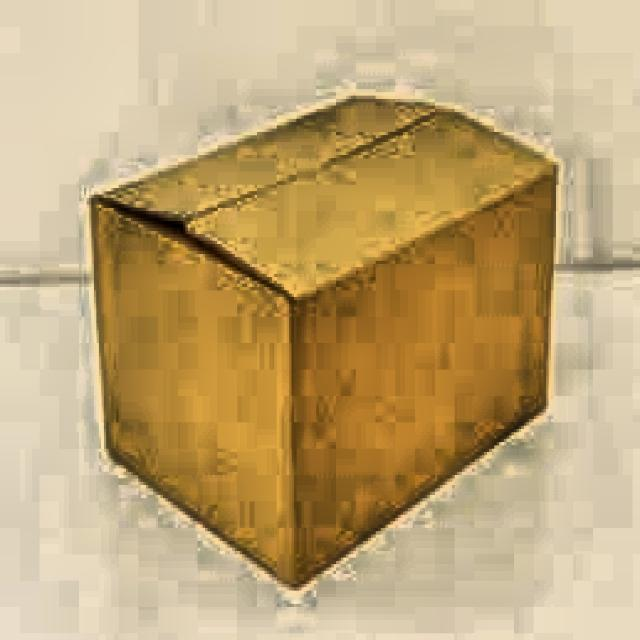Cardbox: (86, 87, 573, 590)
